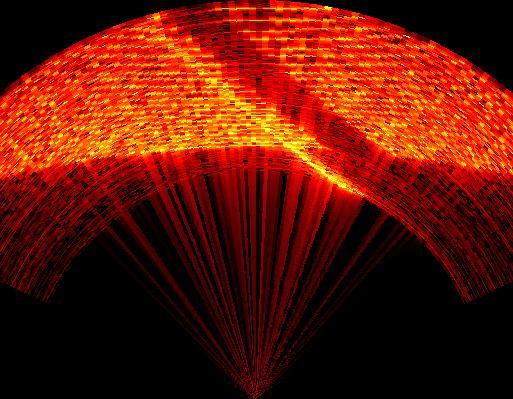pipe: (160, 2, 396, 190)
